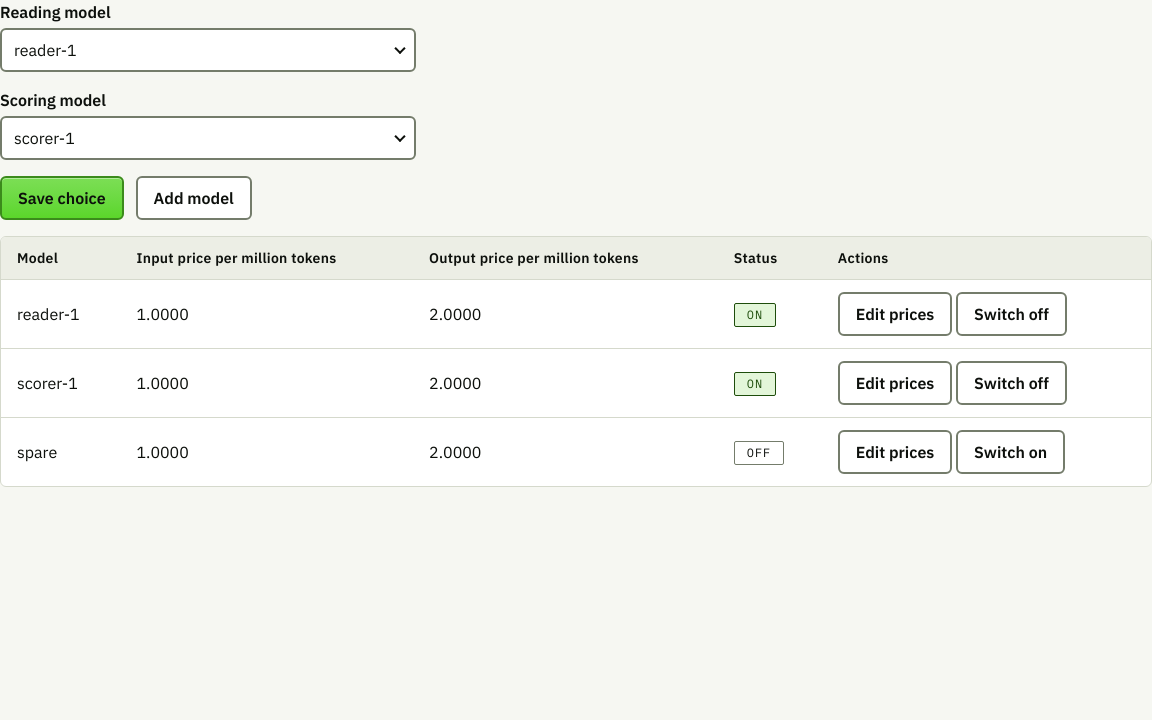
Test: choosing the models › shows the server's refusal in plain words
Expected: the text "spare" is shown, top-left (1, 418), bottom-right (120, 486)
Click the button "Save choice" at (62, 198), box top-left (0, 176), bottom-right (124, 220)
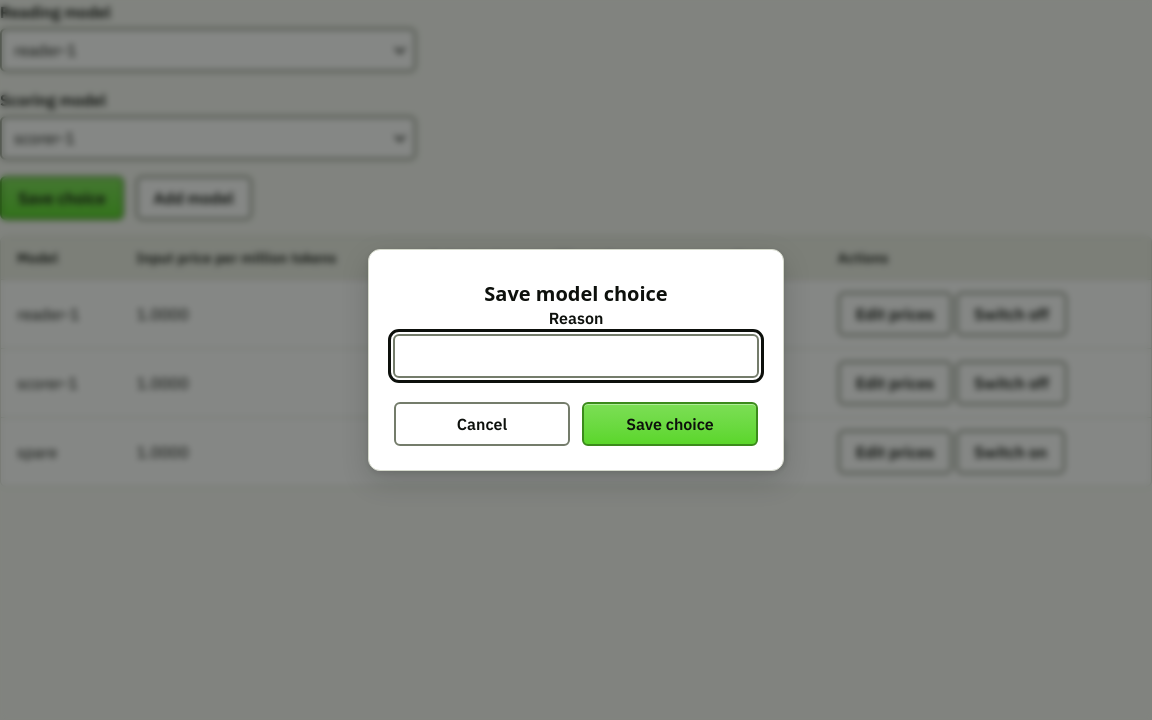
Click the button "Save choice" at (670, 424), box top-left (582, 402), bottom-right (758, 446)
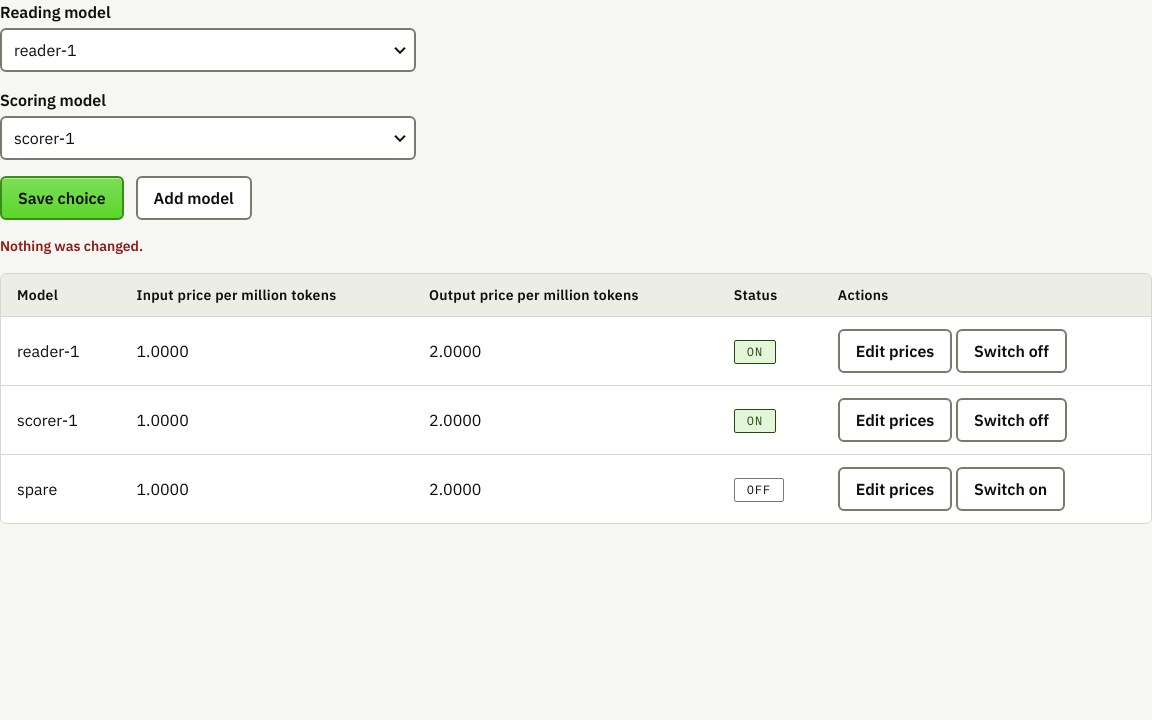
Expected: the message reads "Nothing was changed.", top-left (0, 237), bottom-right (143, 255)
